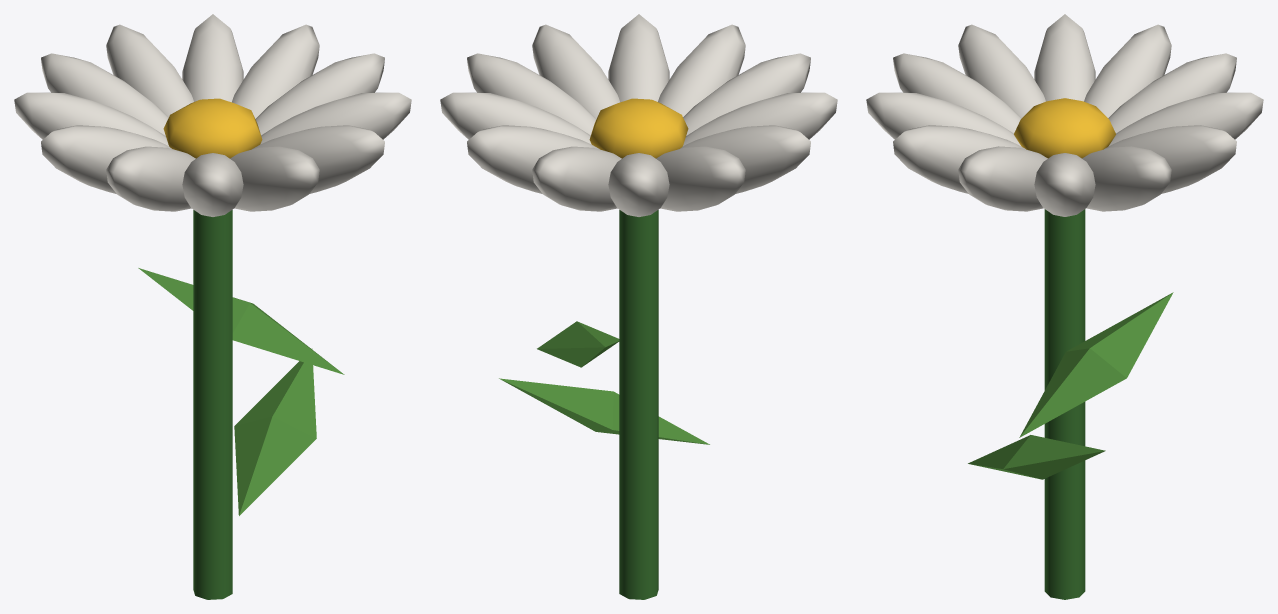
The model's file is margarita.glb.
3 renders of one model, left to right at view 1: azimuth 30°, elevation 25°; view 2: azimuth 150°, elevation 25°; view 3: azimuth 270°, elevation 25°, orthographic.
Parts seen in each view (by area): view 1: margarita; view 2: margarita; view 3: margarita.
Boxes of the visible parts, bbox=[...] form: margarita: bbox=[14, 14, 411, 599]; margarita: bbox=[440, 14, 837, 599]; margarita: bbox=[866, 14, 1263, 599].
Bounding box in the file's own units: 0.2718 × 0.3763 × 0.2718.
